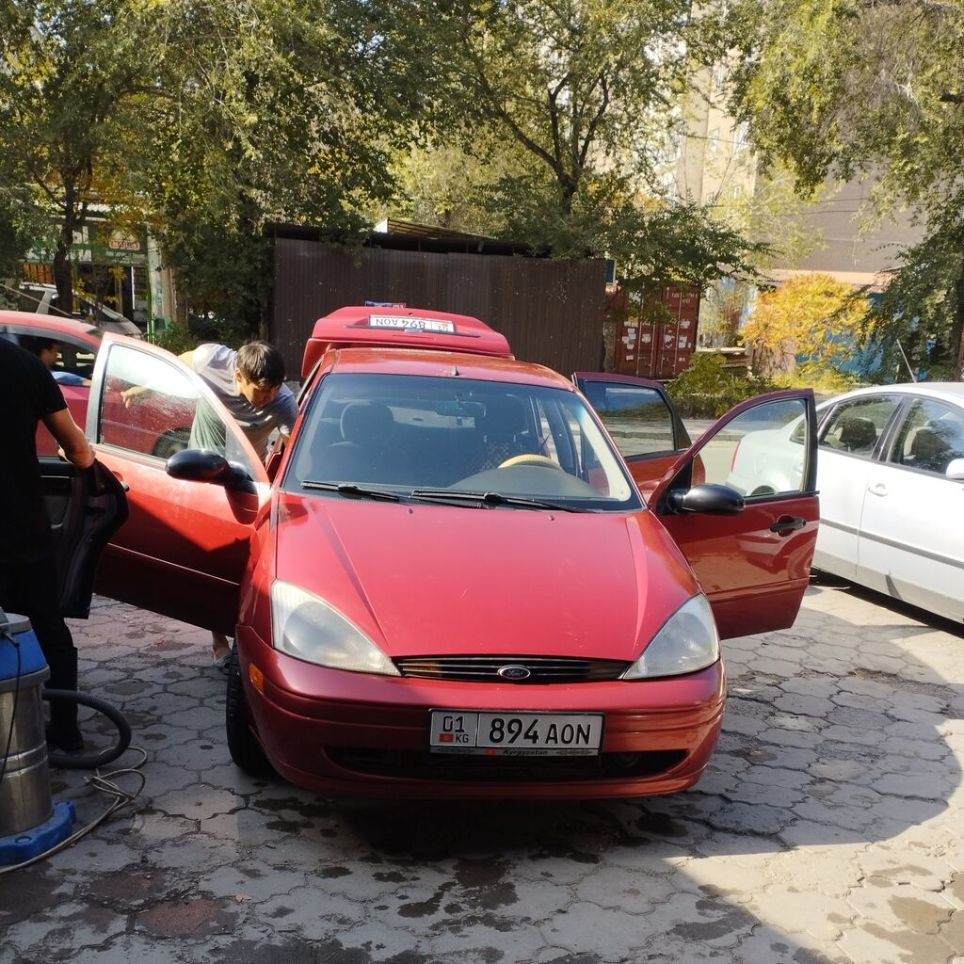license plate: (427, 709, 605, 759)
truck: (232, 329, 732, 819)
